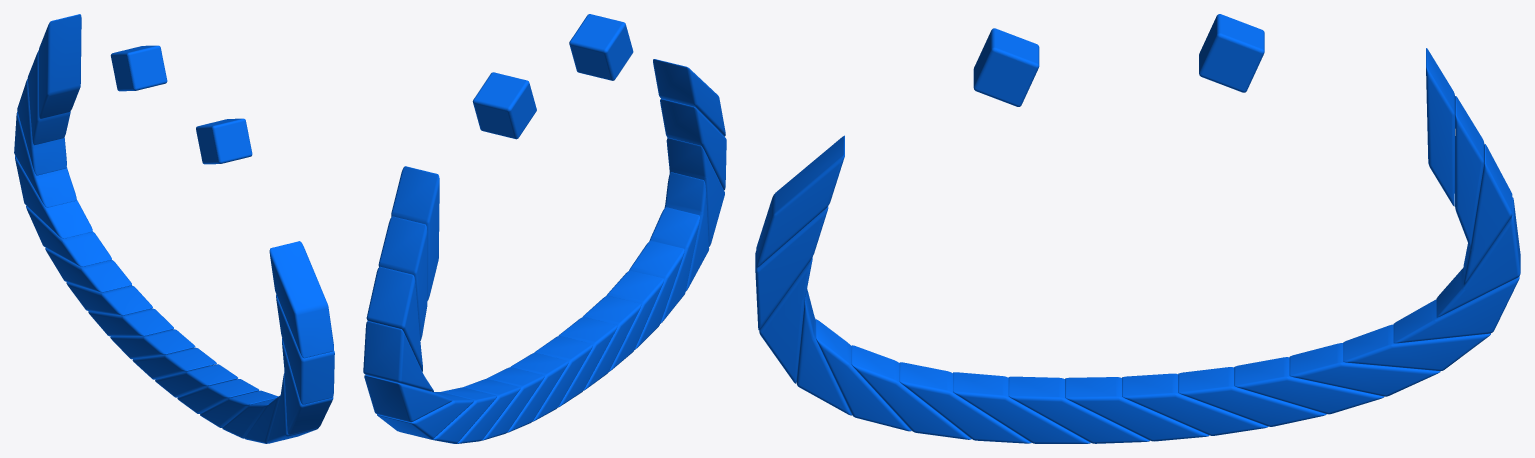
The picture shows the model from 3 angles, left to right: view 1: azimuth 30°, elevation 25°; view 2: azimuth 150°, elevation 25°; view 3: azimuth 270°, elevation 25°; orthographic projection. The views are drawn at different scales.
Parts seen in each view (by area): view 1: Cube, Cube.002, Cube.001; view 2: Cube, Cube.002, Cube.001; view 3: Cube, Cube.002, Cube.001.
Part boxes in pixels (box(x1,y1,x2,y2)): Cube: box(14, 14, 334, 443); Cube.002: box(196, 118, 252, 164); Cube.001: box(110, 45, 167, 91); Cube: box(363, 59, 726, 443); Cube.002: box(569, 14, 633, 80); Cube.001: box(472, 72, 536, 139); Cube: box(755, 48, 1520, 443); Cube.002: box(973, 28, 1039, 106); Cube.001: box(1199, 14, 1264, 92).
Bounding box in the file's own units: 50 × 438 × 739.
